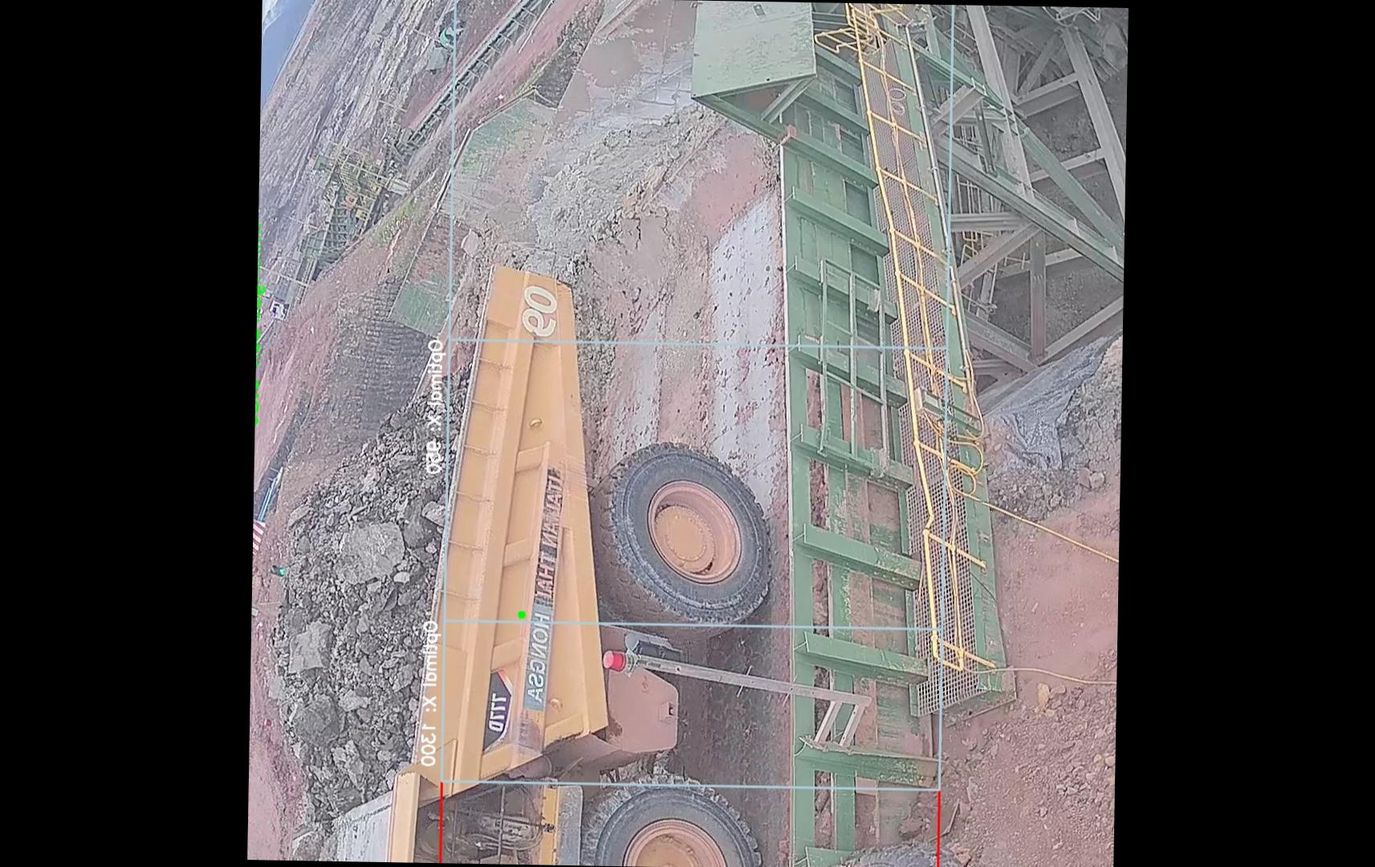company: (516, 460, 567, 729)
full_load: (261, 423, 460, 794)
mining_truck: (251, 250, 788, 867)
tail_number: (515, 277, 567, 350)
truck_size: (473, 660, 518, 763)
